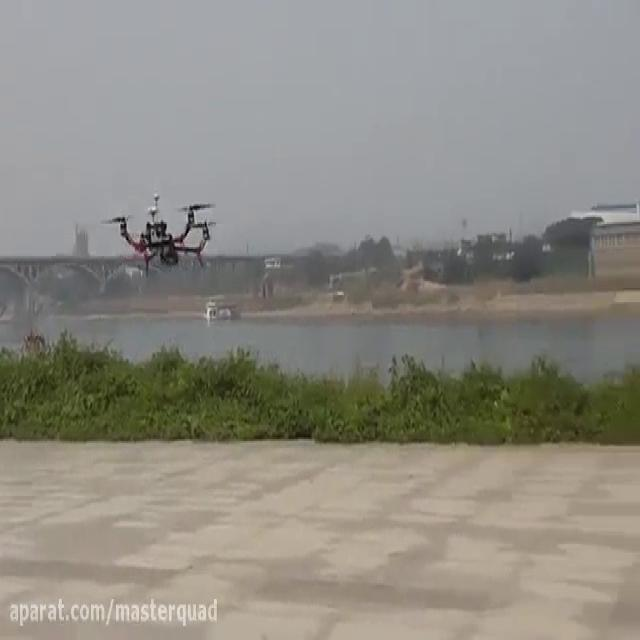drone: (95, 188, 220, 281)
